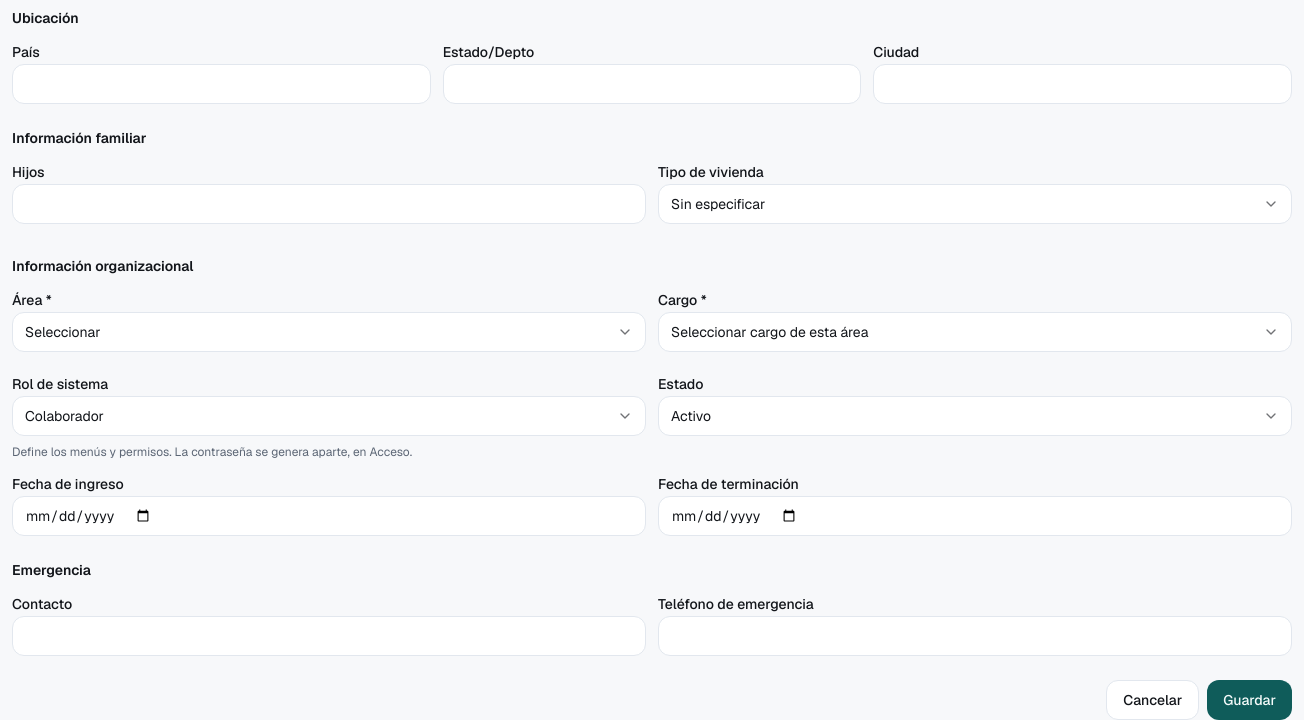
Test: EmployeeForm area selector › lets the admin pick a system role in the collaborator form
(page scrolled)
expect the text "Rol de sistema" is shown: met, box 12,375 -> 108,393
Click the dropdown with id "emp-access-role" at (64, 416), box 12,396 -> 646,436
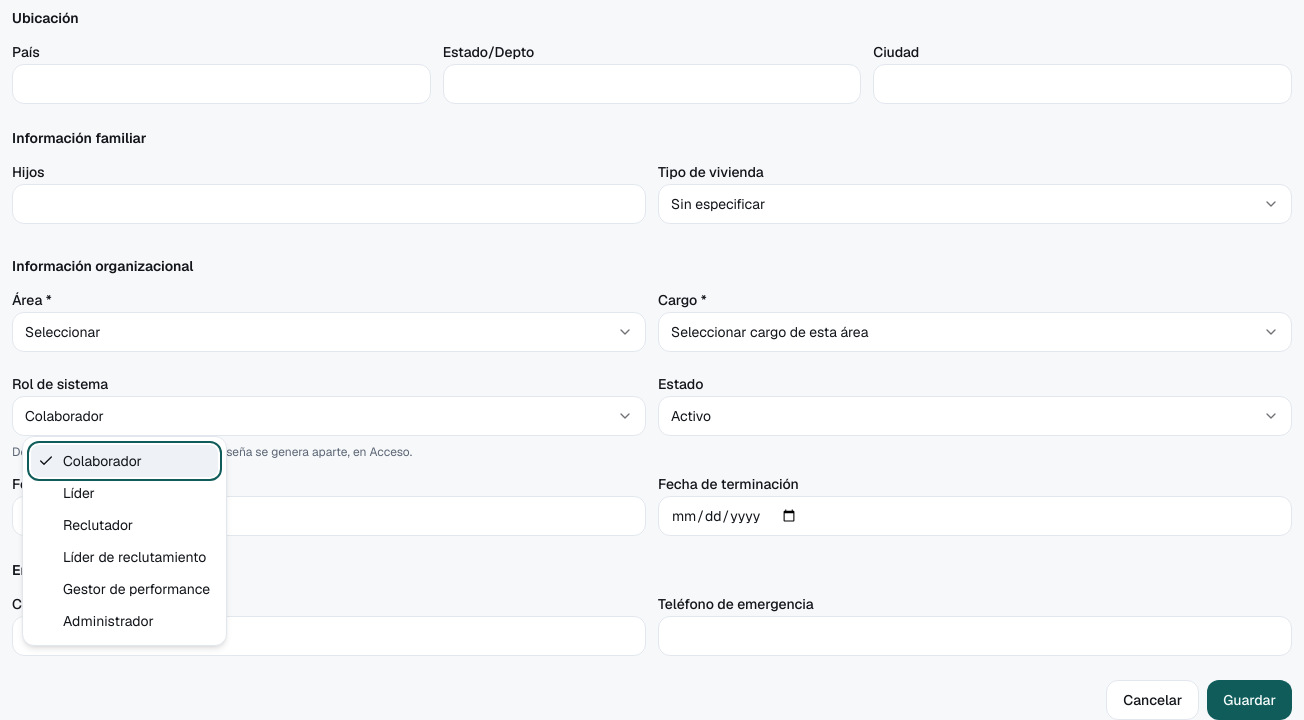
expect the option "Colaborador" is shown: met, box 31,445 -> 218,477
expect the option "Líder" is shown: met, box 63,484 -> 95,502
expect the option "Reclutador" is shown: met, box 63,516 -> 133,534
